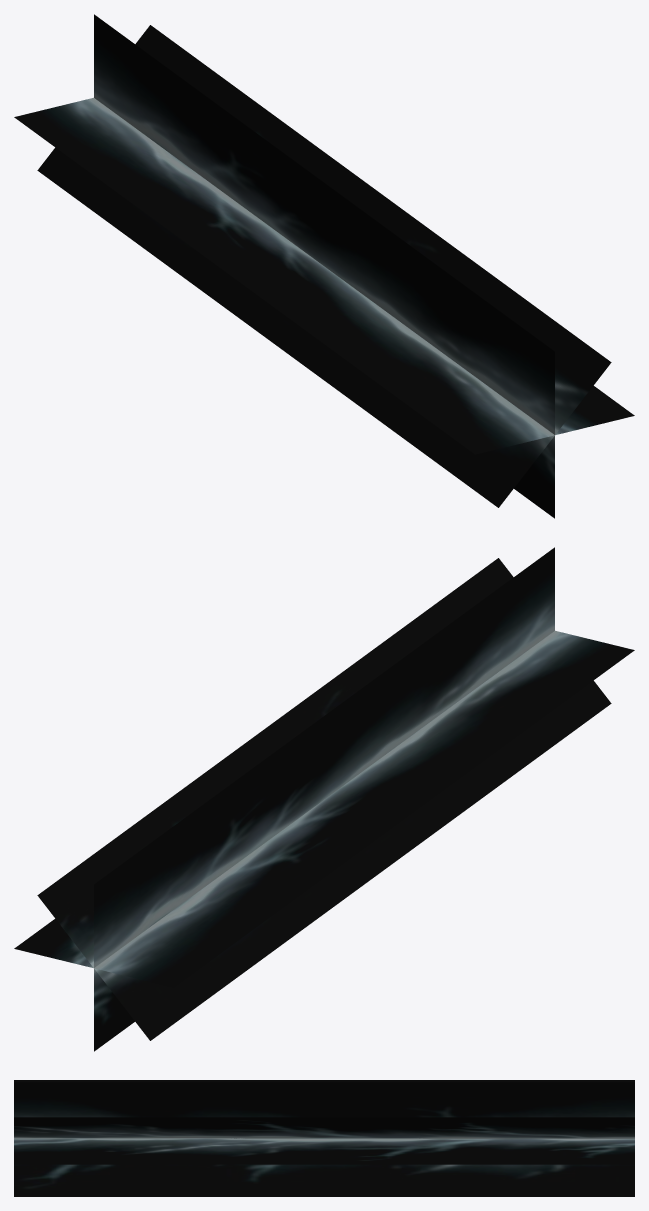
The model's file is lightning_beam.fbx.
3 renders of one model, top to bottom at view 1: azimuth 30°, elevation 25°; view 2: azimuth 150°, elevation 25°; view 3: azimuth 270°, elevation 25°, orthographic. The views are drawn at different scales.
Visible parts, largest first — view 1: pPlane2, pPlane1, pPlane4; view 2: pPlane2, pPlane1, pPlane4; view 3: pPlane2, pPlane3, pPlane1, pPlane4.
Part boxes in pixels (x1,y1,x2,y2): pPlane2: [94, 14, 554, 518]; pPlane1: [14, 97, 634, 454]; pPlane4: [37, 25, 611, 507]; pPlane2: [94, 547, 554, 1051]; pPlane1: [14, 630, 634, 987]; pPlane4: [37, 558, 611, 1040]; pPlane2: [14, 1082, 634, 1138]; pPlane3: [14, 1080, 634, 1196]; pPlane1: [14, 1138, 634, 1164]; pPlane4: [14, 1117, 634, 1138].
Size of the model in its own units: 200 by 200 by 1000.
1 material, 1 textured.
